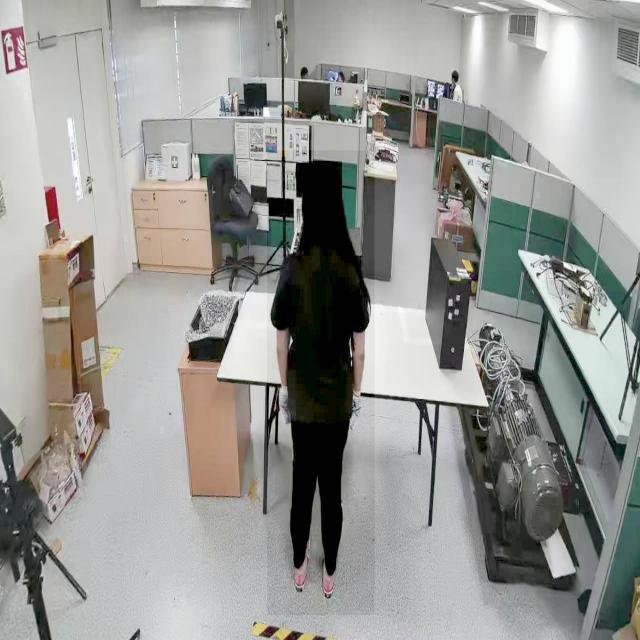boots: (290, 536, 313, 592), (317, 540, 339, 598)
